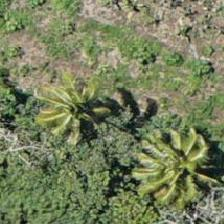coconut_tree: (131, 121, 221, 211), (19, 59, 109, 149)
